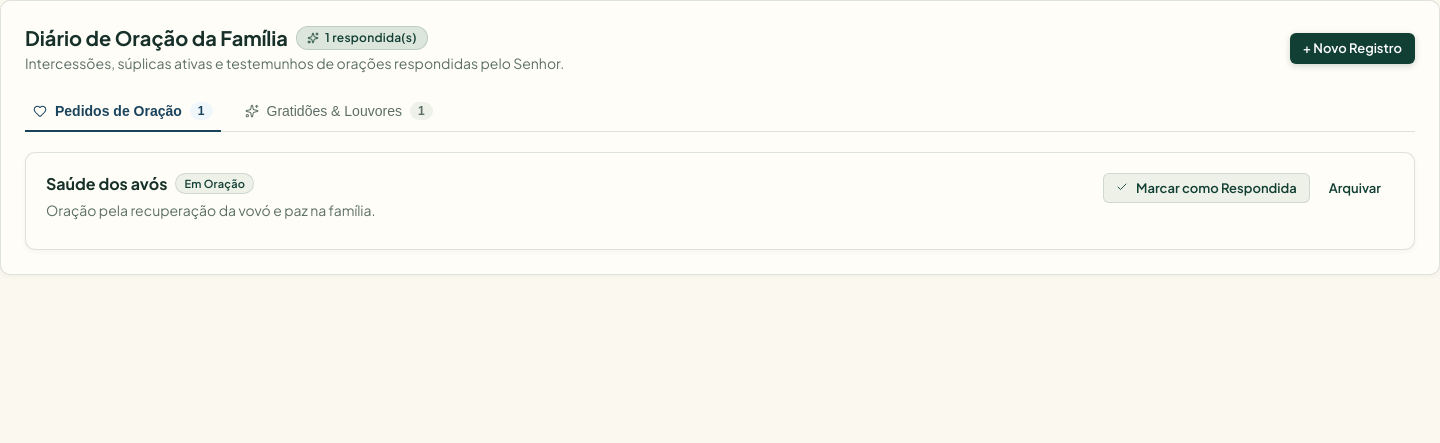
Test: Devotional & Prayer Components › PrayerJournal › renders petitions and praises tabs, answered celebration banner, and prayer items
The width and height of the screenshot is (1440, 443).
Check: the heading "Saúde dos avós" is shown, box [46,173,167,194]
Check: the text "Novo trabalho do papai" is not shown
Switch to Gratitudes tab
What coordinates should you click on to do the following:
click the tab "Gratidões & Louvores 1"
I would click on:
 (339, 112)
Its box is [236,92,441,132].
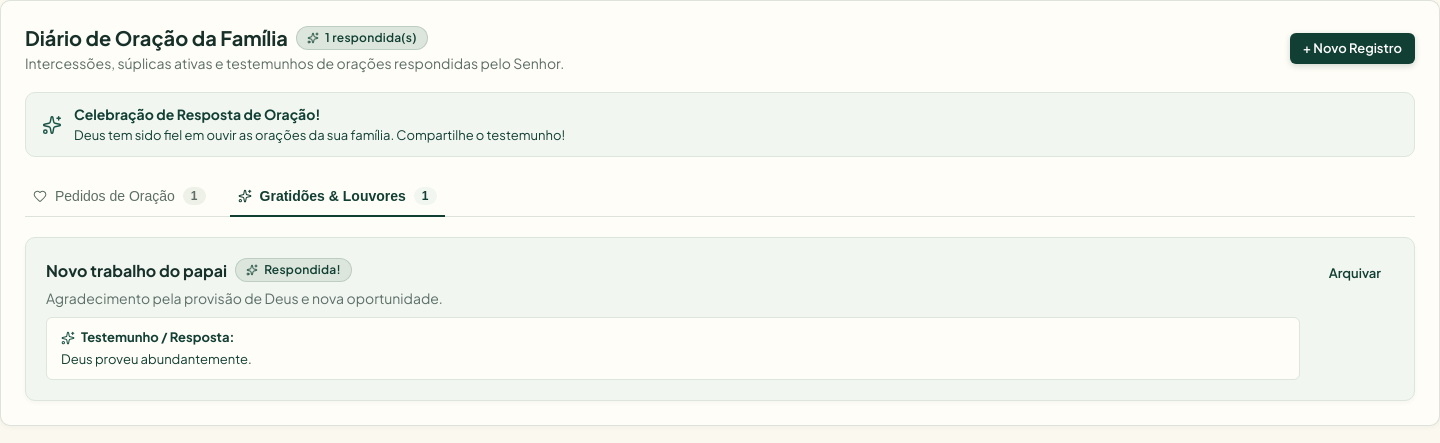
Check: the heading "Novo trabalho do papai" is shown, box [46,260,227,280]
Check: the element with test id "answered-celebration-banner" is shown, box [25,92,1415,157]
Check: the heading "Saúde dos avós" is gone
